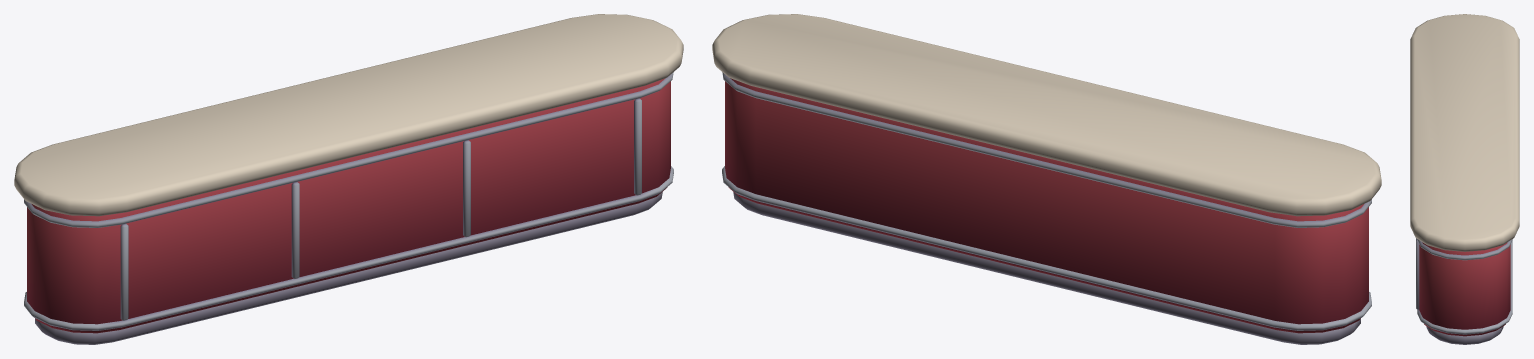
The model's file is counter_retro.glb.
The picture shows the model from 3 angles, left to right: view 1: azimuth 30°, elevation 25°; view 2: azimuth 150°, elevation 25°; view 3: azimuth 270°, elevation 25°; orthographic projection. The views are drawn at different scales.
Parts seen in each view (by area): view 1: counter_retro; view 2: counter_retro; view 3: counter_retro.
Part boxes in pixels (x1,y1,x2,y2): counter_retro: (14,14,683,344); counter_retro: (712,14,1381,344); counter_retro: (1410,14,1519,344).
Bounding box in the file's own units: 4.76 × 1.08 × 0.9599.
